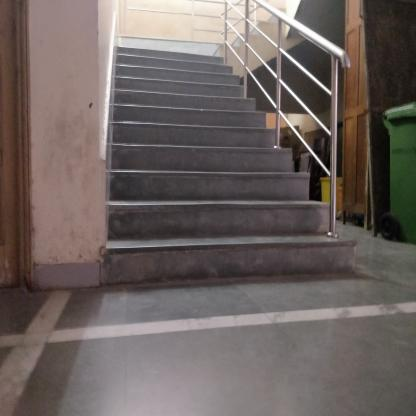stairs: (117, 110, 275, 297)
